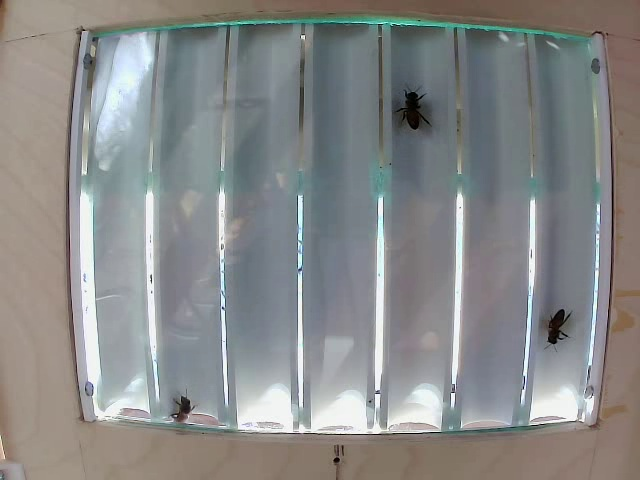bee: (389, 89, 432, 148), (541, 305, 573, 348), (170, 388, 196, 426)
